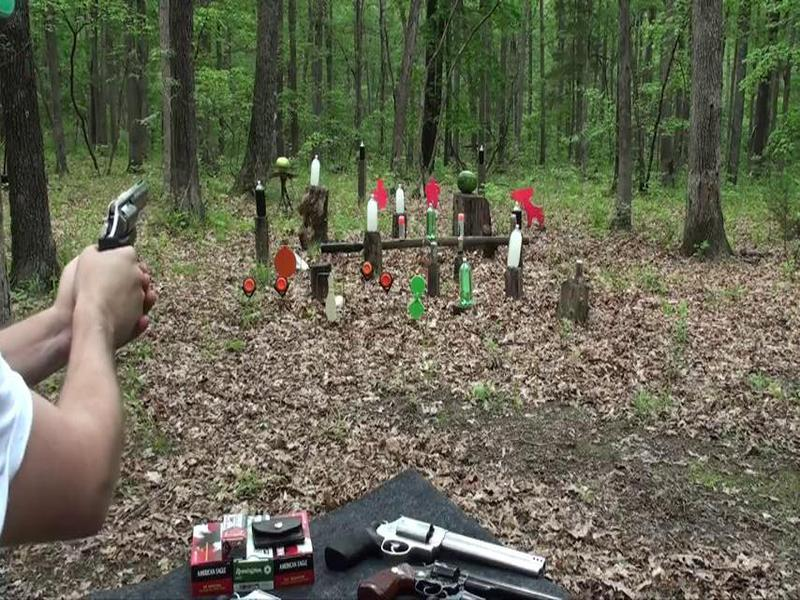Revolver: (94, 170, 158, 278)
